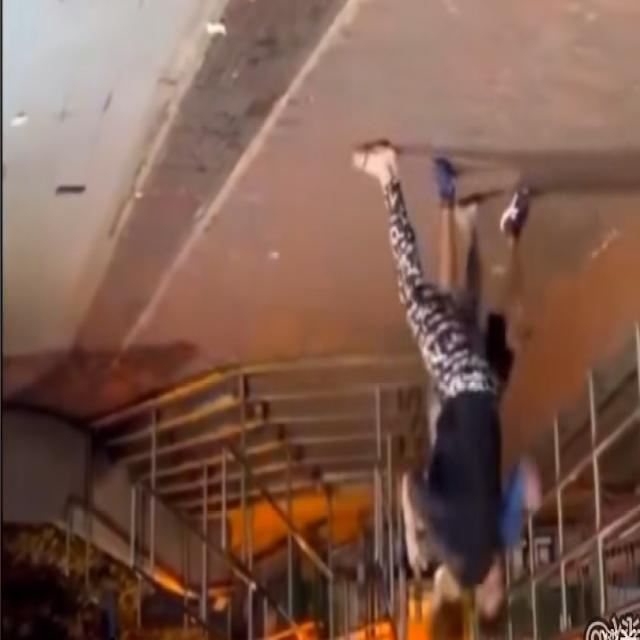fight: (388, 139, 537, 640)
